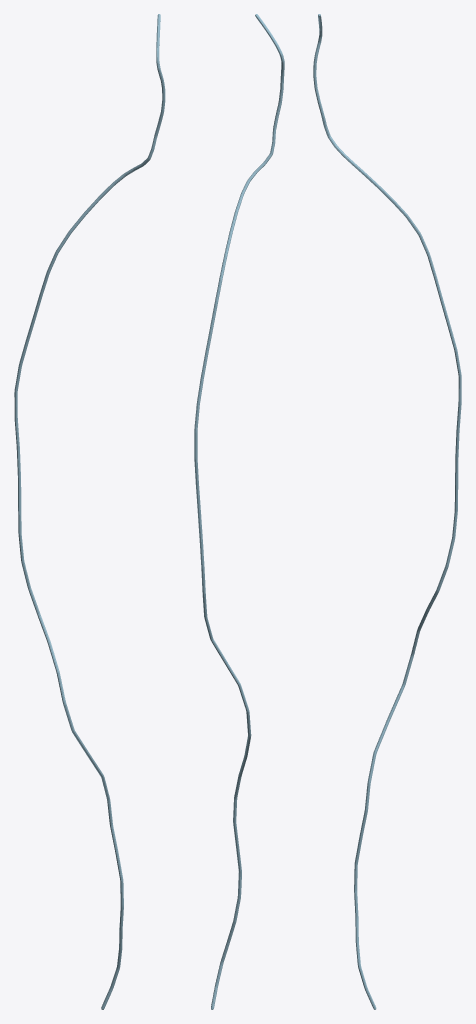
The model's file is articulacoes-intertransverse-ligaments-l.glb.
The picture shows the model from 3 angles, left to right: view 1: azimuth 90°, elevation 25°; view 2: azimuth 150°, elevation 25°; view 3: azimuth 270°, elevation 25°; orthographic projection. The views are drawn at different scales.
Parts seen in each view (by area): view 1: Intertransverse ligaments.l; view 2: Intertransverse ligaments.l; view 3: Intertransverse ligaments.l.
Part boxes in pixels (x1,y1,x2,y2): Intertransverse ligaments.l: (14,14,165,1009); Intertransverse ligaments.l: (194,14,284,1009); Intertransverse ligaments.l: (313,14,461,1009).
Size of the model in its own units: 0.0343 by 0.565 by 0.077.
